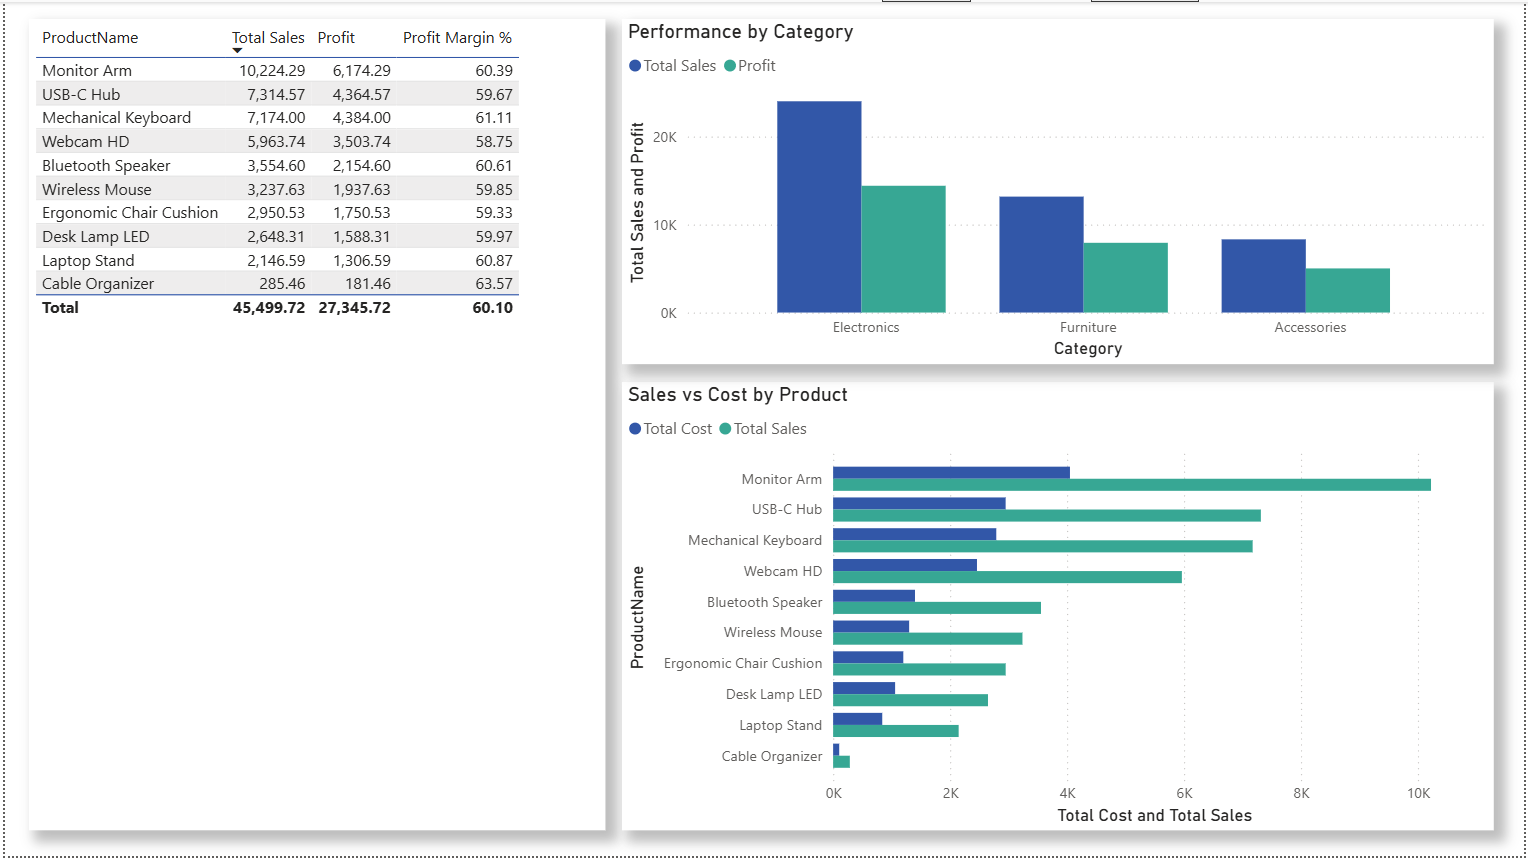

The page's visual inventory and layout, read from the dashboard file:
{"tool":"powerbi","page":{"name":"Product Analysis","canvas":[1280,720],"ordinal":1},"visuals":[{"type":"tableEx","title":"Top Products by Sales","fields":{"Values":["Products.ProductName","_Measures.Total Sales","_Measures.Profit","_Measures.Profit Margin %"]},"box":[20.4,14.6,486.3,683.8],"z":0},{"type":"clusteredBarChart","title":"Sales vs Cost by Product","fields":{"Category":["Products.ProductName"],"Y":["_Measures.Total Cost","_Measures.Total Sales"]},"box":[520.4,320,735.3,378.4],"z":1000},{"type":"clusteredColumnChart","title":"Performance by Category","fields":{"Category":["Products.Category"],"Y":["_Measures.Total Sales","_Measures.Profit"]},"box":[520.4,14.6,735.3,290.8],"z":2000}]}

Visuals, with their boxes in screenshot pixels (x1, y1, x2, y2), scaled from the page's 1280x720 canvas onto the 1528x861 screenshot:
"Top Products by Sales" tableEx: l=24, t=17, r=605, b=835
"Sales vs Cost by Product" clusteredBarChart: l=621, t=383, r=1499, b=835
"Performance by Category" clusteredColumnChart: l=621, t=17, r=1499, b=365
